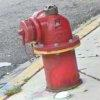a fire hydrant: (27, 8, 80, 95)
